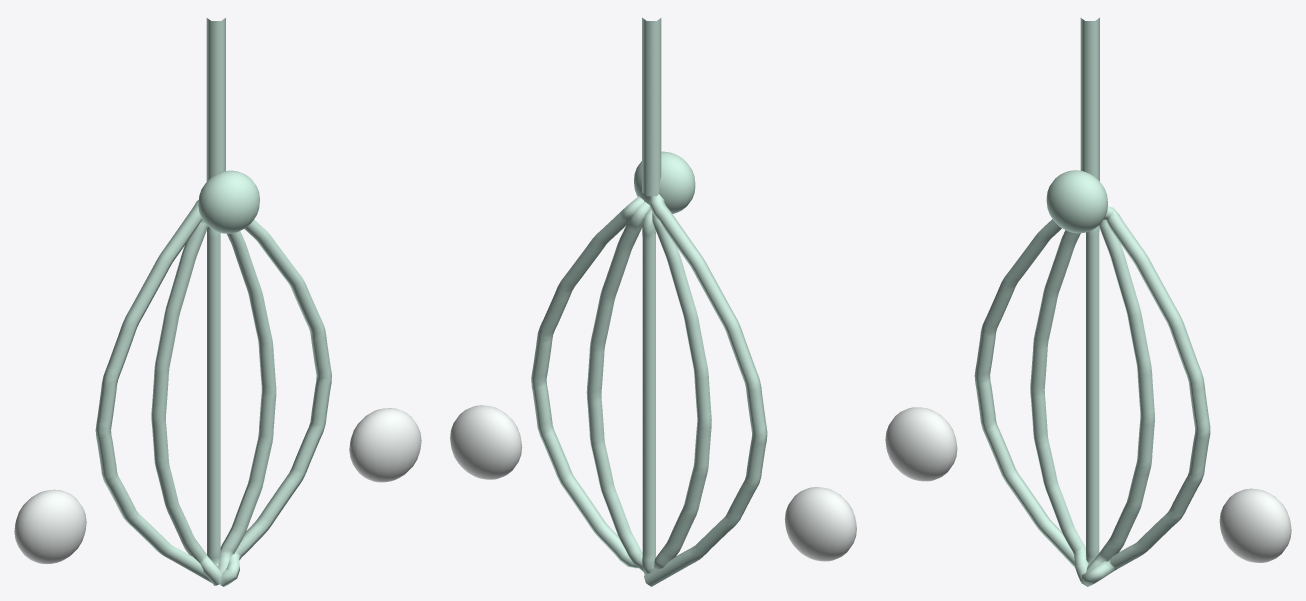
File: decor_4_mint.glb
3 views of the same model, side by side, from view 1: azimuth 30°, elevation 25°; view 2: azimuth 150°, elevation 25°; view 3: azimuth 330°, elevation 25° (orthographic).
Parts seen in each view (by area): view 1: decor_4_mint; view 2: decor_4_mint; view 3: decor_4_mint.
Part boxes in pixels (x1=…): decor_4_mint: x1=14, y1=18, x2=421, y2=586; decor_4_mint: x1=450, y1=17, x2=856, y2=586; decor_4_mint: x1=885, y1=17, x2=1291, y2=586.
Bounding box in the file's own units: 7.2 × 9.7 × 1.2.
